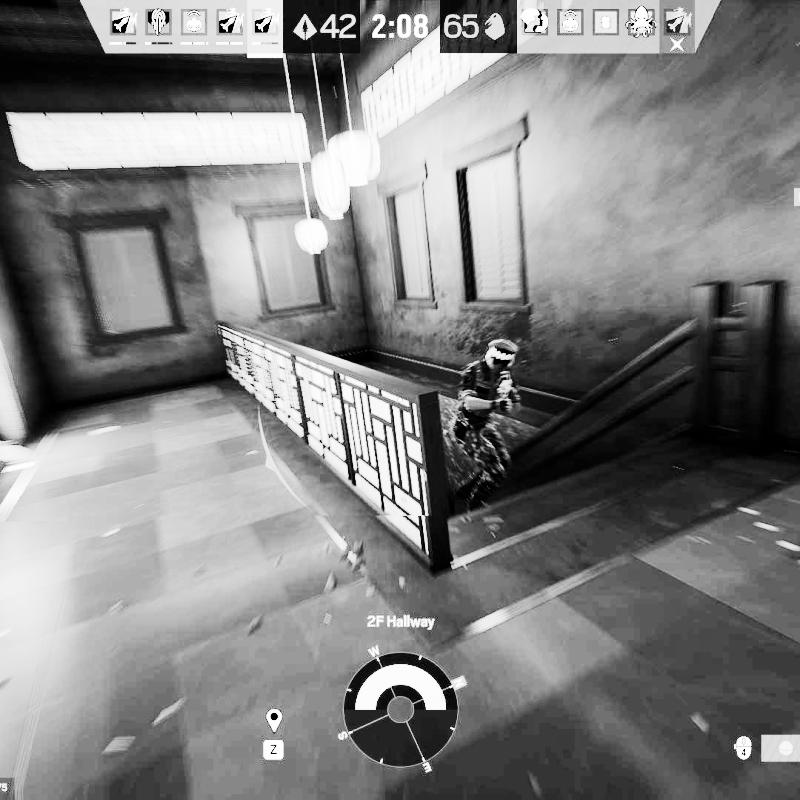Character: (442, 335, 529, 514)
Head: (482, 338, 518, 374)
